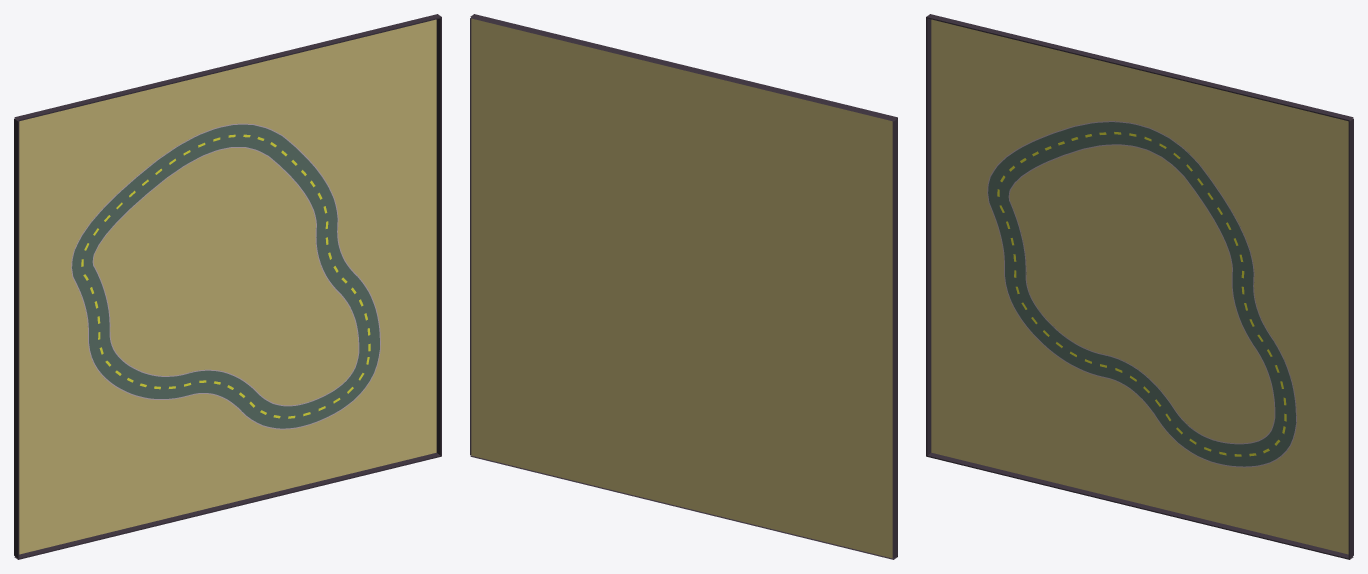
The model's file is track.obj.
The picture shows the model from 3 angles, left to right: view 1: azimuth 30°, elevation 25°; view 2: azimuth 150°, elevation 25°; view 3: azimuth 330°, elevation 25°; orthographic projection.
Size of the model in its own units: 18.05 by 17.9 by 0.3.
Materials: 5 (5 with a texture image).
